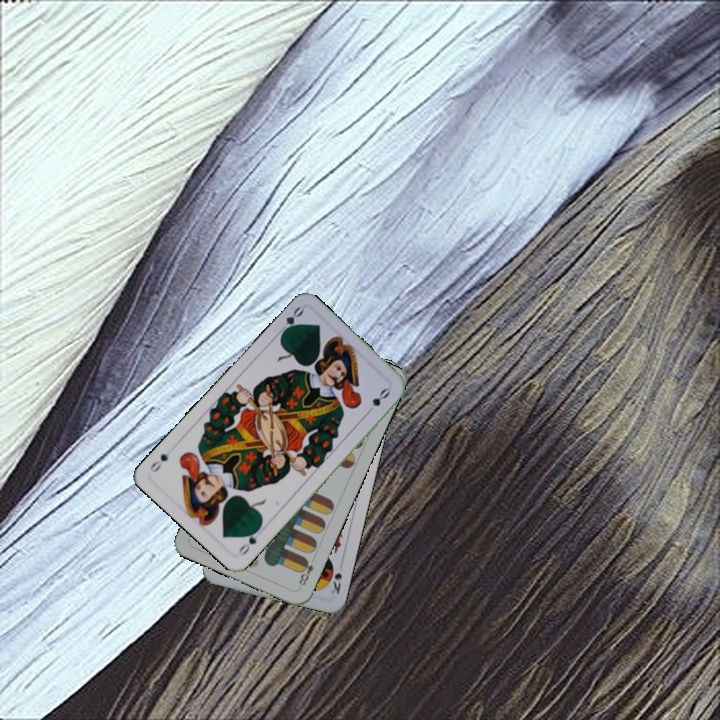E8: (295, 554, 316, 589)
GO: (273, 302, 306, 339), (234, 523, 263, 559)
SK: (326, 569, 345, 597)
